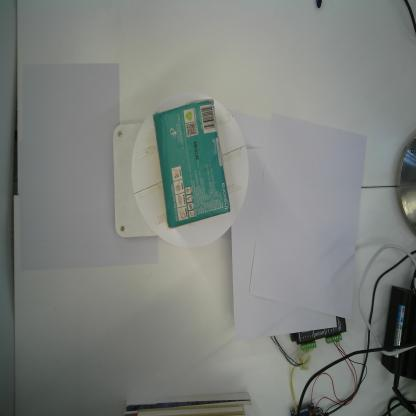Tissue: (151, 96, 231, 230)
